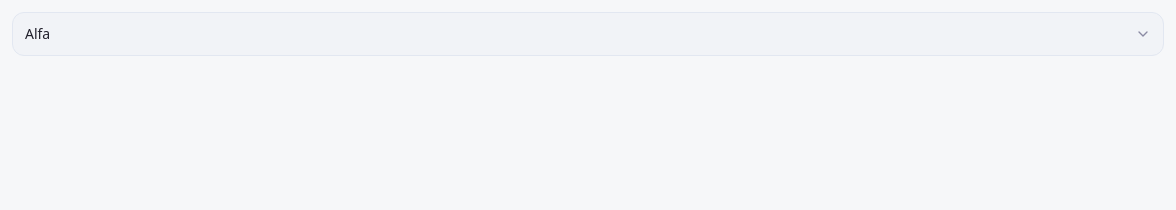
Test: Select › abre ao clicar e lista as opções
Click the dropdown at (38, 34), box [12, 12, 1164, 56]
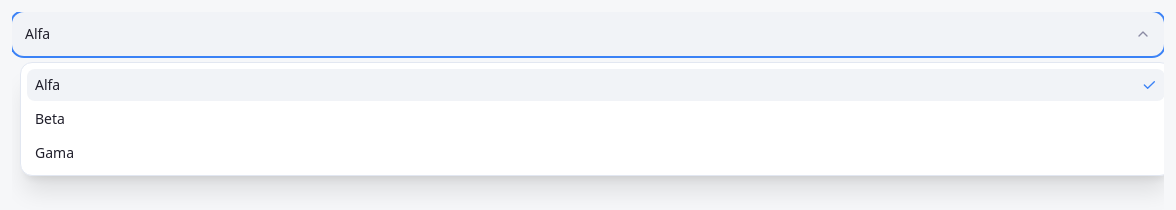
Now the number of options is 3, box [27, 69, 1165, 101]; [35, 109, 65, 128]; [35, 143, 74, 162]
Now the dropdown is expanded, box [12, 12, 1164, 56]
